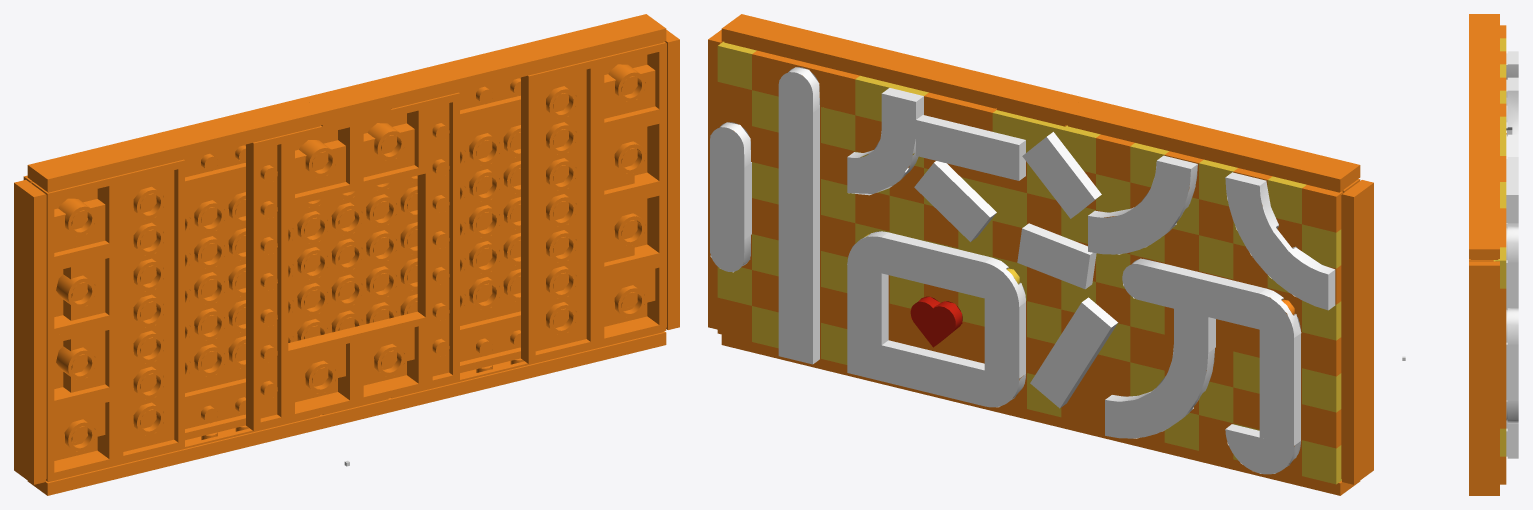
The picture shows the model from 3 angles, left to right: view 1: azimuth 30°, elevation 25°; view 2: azimuth 150°, elevation 25°; view 3: azimuth 270°, elevation 25°; orthographic projection. The views are drawn at different scales.
Parts seen in each view (by area): view 1: 临汾橙色; view 2: 临汾橙色; view 3: 临汾橙色.
Boxes of the visible parts, bbox=[...] form: 临汾橙色: bbox=[14, 14, 679, 495]; 临汾橙色: bbox=[708, 14, 1373, 495]; 临汾橙色: bbox=[1469, 14, 1518, 495].
Bounding box in the file's own units: 376 × 177 × 75.11.
